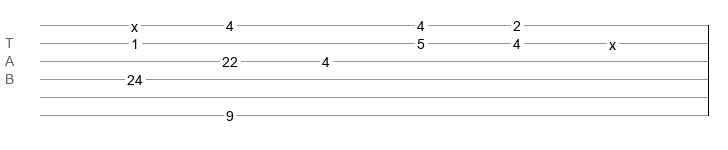1: (131, 36, 139, 46)
2: (513, 18, 521, 28)
22: (222, 54, 238, 64)
24: (127, 72, 143, 82)
4: (226, 18, 234, 28), (322, 54, 330, 64), (417, 18, 425, 28), (513, 36, 521, 46)
5: (417, 36, 425, 46)
9: (226, 108, 234, 118)
x: (131, 19, 138, 27), (609, 37, 616, 45)
